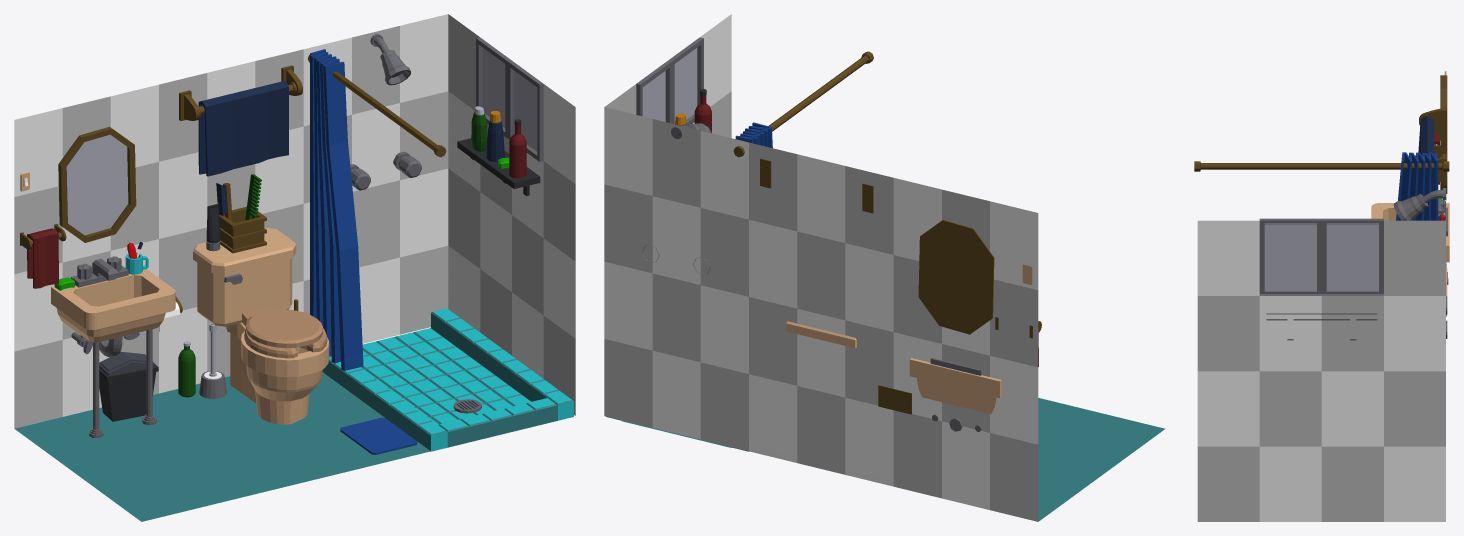
Rendered from Banheiro.fbx.
3 views of the same model, side by side, from view 1: azimuth 30°, elevation 25°; view 2: azimuth 150°, elevation 25°; view 3: azimuth 270°, elevation 25° (orthographic). The views are drawn at different scales.
Parts seen in each view (by area): view 1: Cube.001, Cube.008, Cube, Cube.010, Cube.019, Cube.009, Cube.011, Cube.005, Cylinder.028, Plane, Cube.020, Cylinder.008 (+22 smaller); view 2: Cube.008, Cube.010, Cube, Cube.019, Cylinder.028, Cube.006, Cube.001, Cube.020, Cylinder.004, Cube.012, Cylinder.016, Cylinder.012; view 3: Cube.001, Cube.006, Cube.009, Cylinder.004, Cylinder.012, Cylinder.002, Cube.020, Plane, Cylinder.028, Cube.007.
Part boxes in pixels (box(x1,y1,x2,y2)): Cube.001: box(448, 14, 575, 415); Cube.008: box(303, 14, 448, 343); Cube: box(14, 84, 158, 428); Cube.010: box(159, 49, 303, 393); Cube.019: box(14, 393, 285, 521); Cube.009: box(310, 49, 363, 370); Cube.011: box(159, 372, 430, 486); Cube.005: box(359, 328, 531, 424); Cylinder.028: box(58, 126, 136, 242); Plane: box(198, 80, 288, 176); Cube.020: box(51, 269, 175, 342); Cylinder.008: box(225, 322, 329, 424); Cube.008: box(604, 107, 748, 451); Cube.010: box(749, 142, 893, 486); Cube: box(893, 178, 1038, 521); Cube.019: box(1038, 398, 1165, 521); Cylinder.028: box(918, 220, 994, 334); Cube.006: box(636, 37, 703, 124); Cube.001: box(604, 14, 731, 137); Cube.020: box(909, 358, 1001, 413); Cylinder.004: box(733, 51, 873, 157); Cube.012: box(786, 321, 856, 347); Cylinder.016: box(878, 385, 911, 414); Cylinder.012: box(760, 158, 873, 213); Cube.001: box(1197, 220, 1445, 521); Cube.006: box(1259, 218, 1383, 295); Cube.009: box(1396, 152, 1438, 220); Cylinder.004: box(1194, 161, 1449, 171); Cylinder.012: box(1419, 105, 1446, 185); Cylinder.002: box(1393, 193, 1428, 220); Cube.020: box(1371, 203, 1449, 265); Plane: box(1418, 116, 1434, 155); Cylinder.028: box(1440, 75, 1447, 193); Cube.007: box(1266, 313, 1377, 340).
Bounding box in the file's own units: 201 × 137 × 105.
